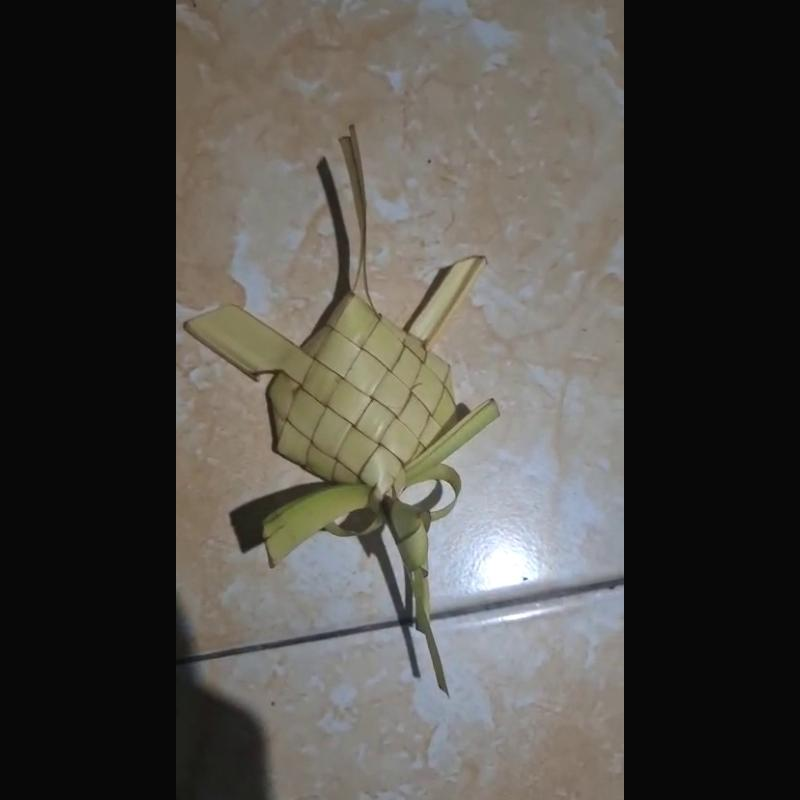Tipat Dampulan: (185, 118, 507, 687)
